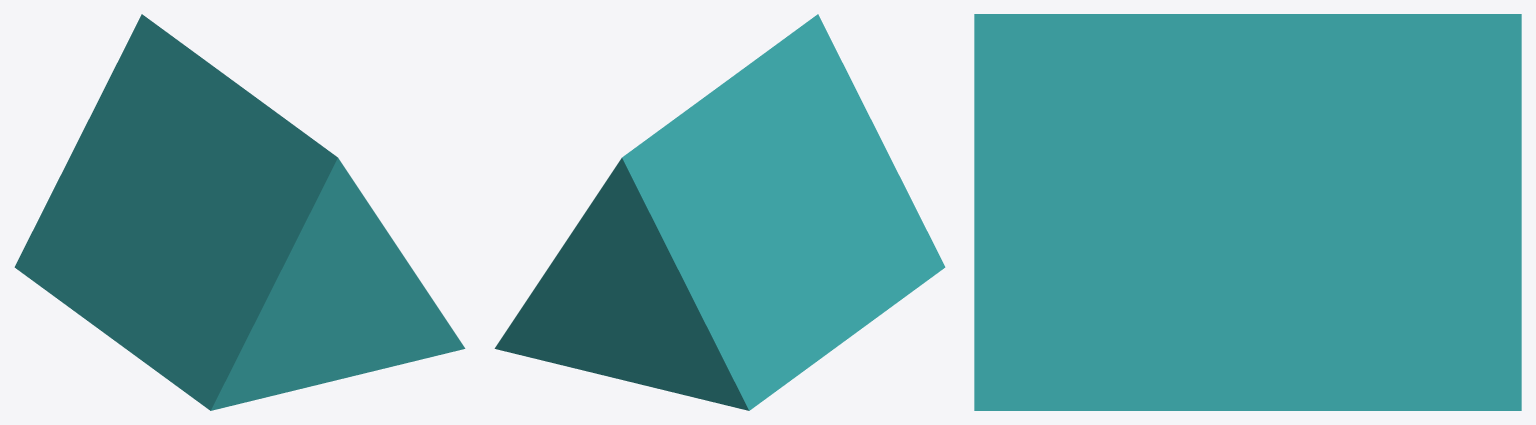
File: prisma_triangular.glb
3 views of the same model, side by side, from view 1: azimuth 30°, elevation 25°; view 2: azimuth 150°, elevation 25°; view 3: azimuth 270°, elevation 25° (orthographic). The views are drawn at different scales.
Visible parts, largest first — view 1: world; view 2: world; view 3: world.
Boxes of the visible parts, bbox=[...] form: world: bbox=[14, 14, 465, 410]; world: bbox=[494, 14, 945, 410]; world: bbox=[974, 14, 1521, 410].
Bounding box in the file's own units: 0.12 × 0.1 × 0.16.
